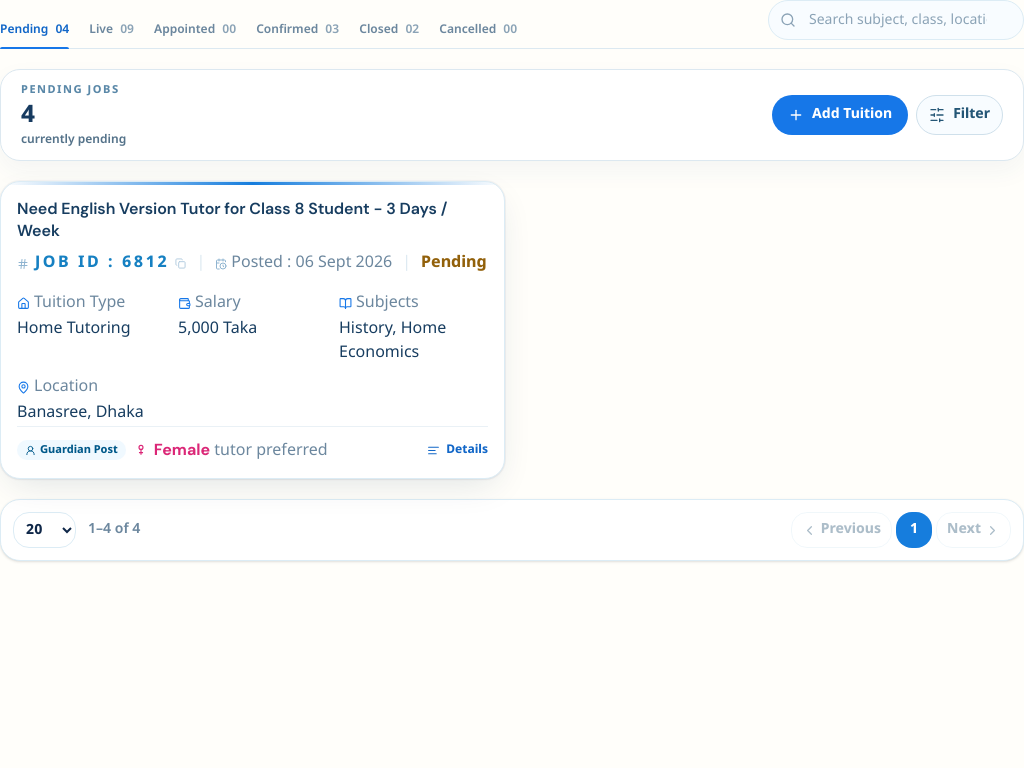
Test case: Admin Posted jobs board › says so when nothing has been recorded for a tuition yet
This screenshot has width=1024, height=768.
Click the button named "Job ID 6812".
click(252, 330)  # box top-left (0, 181), bottom-right (505, 479)
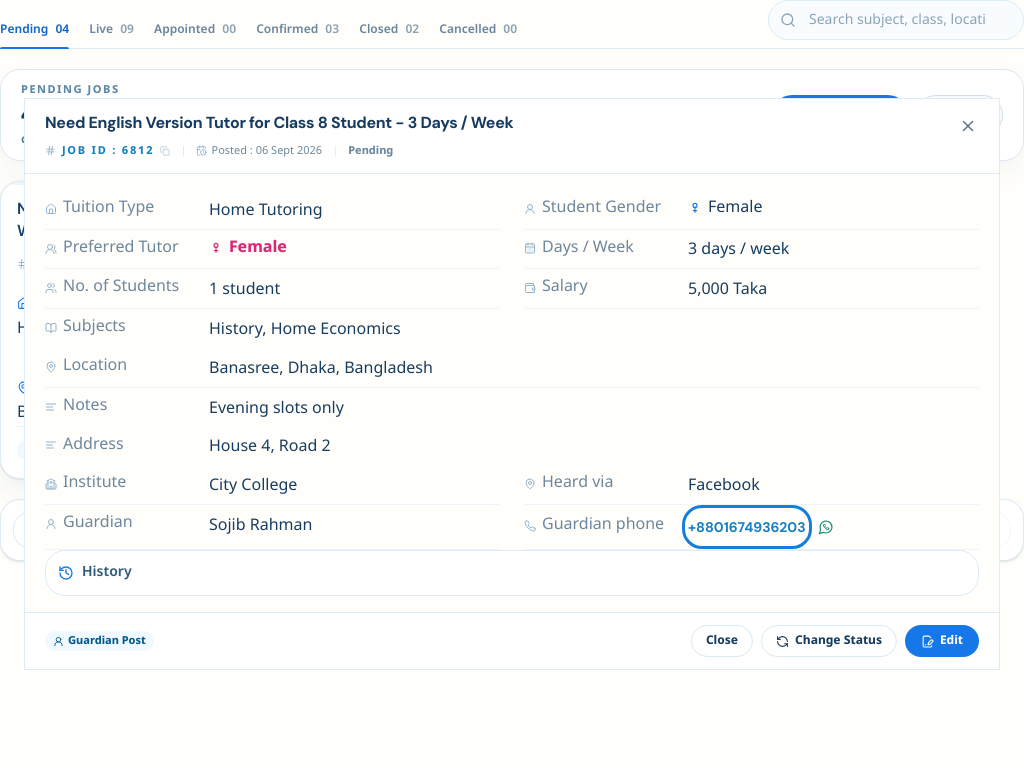
Click the heading "History".
click(95, 573)  # box top-left (58, 563), bottom-right (132, 582)
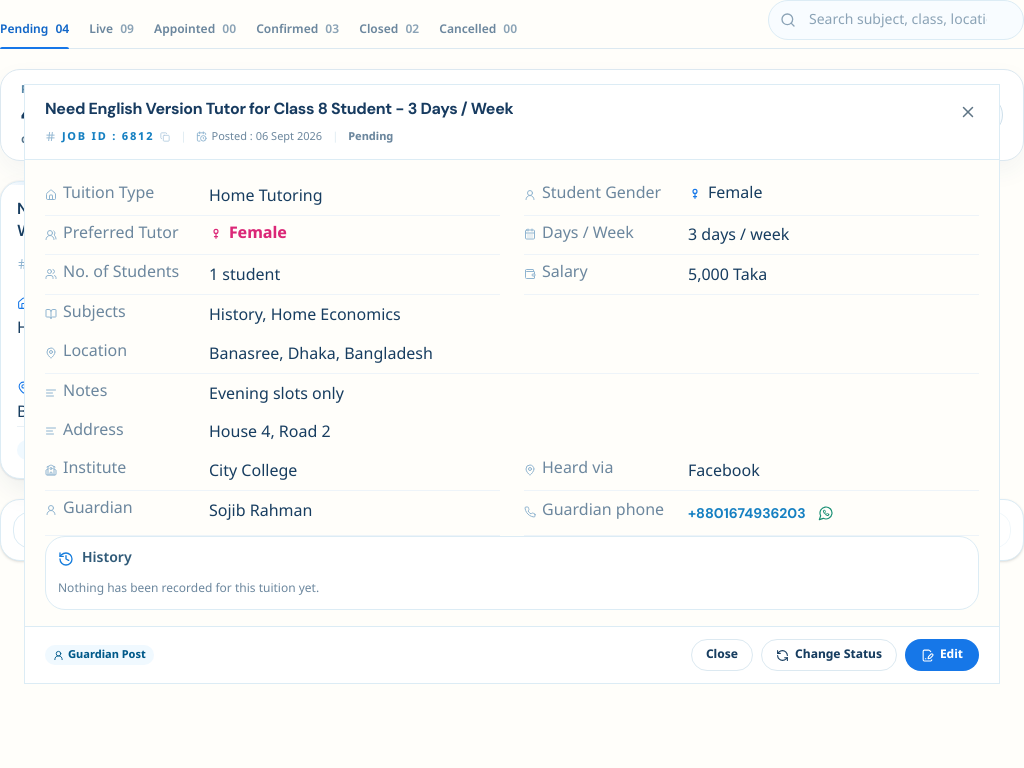
Check: the text "Nothing has been recorded for this tuition yet." is shown, box top-left (58, 581), bottom-right (319, 597)
